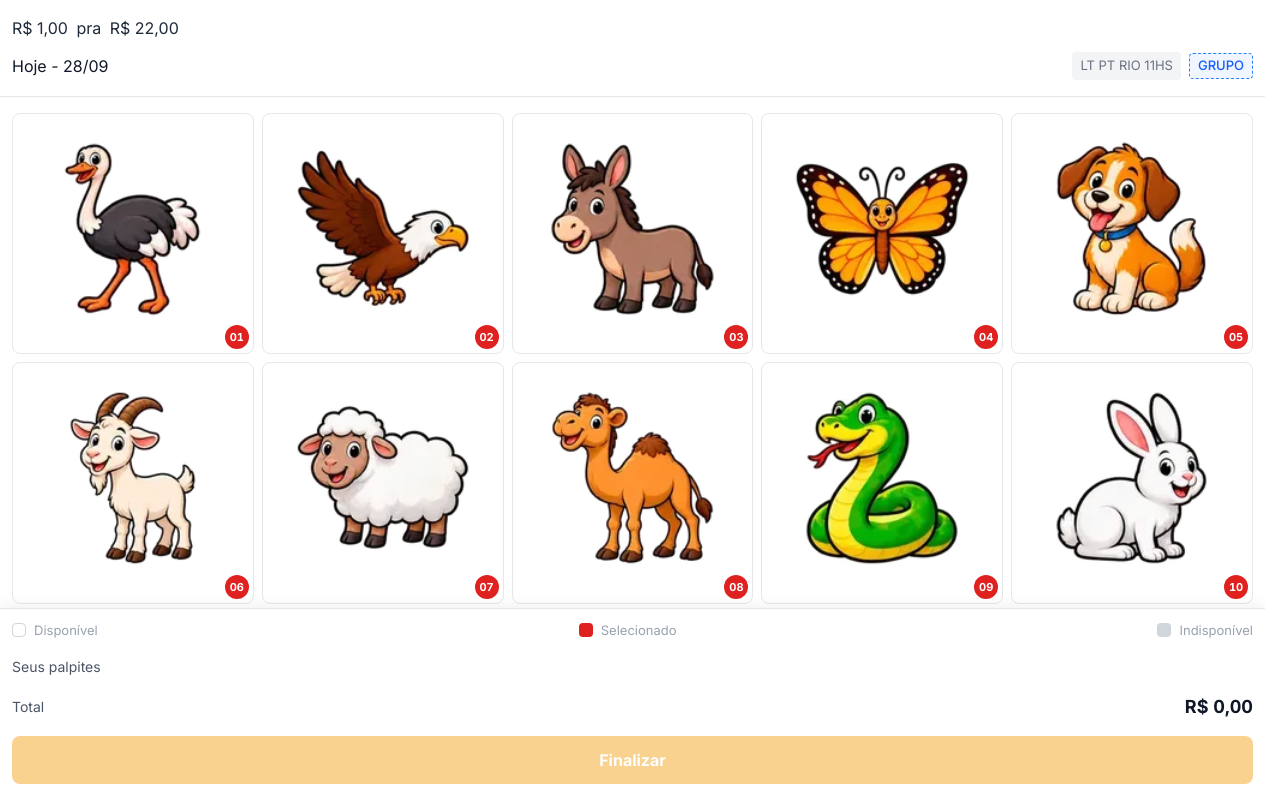
Test case: PalpitesScreen › cotação alterada: avisa e, ao fechar, volta à lista recarregada (nada é comprado)
Click the button named "01 Avestruz": point(133, 233) top-left (12, 112), bottom-right (254, 354)
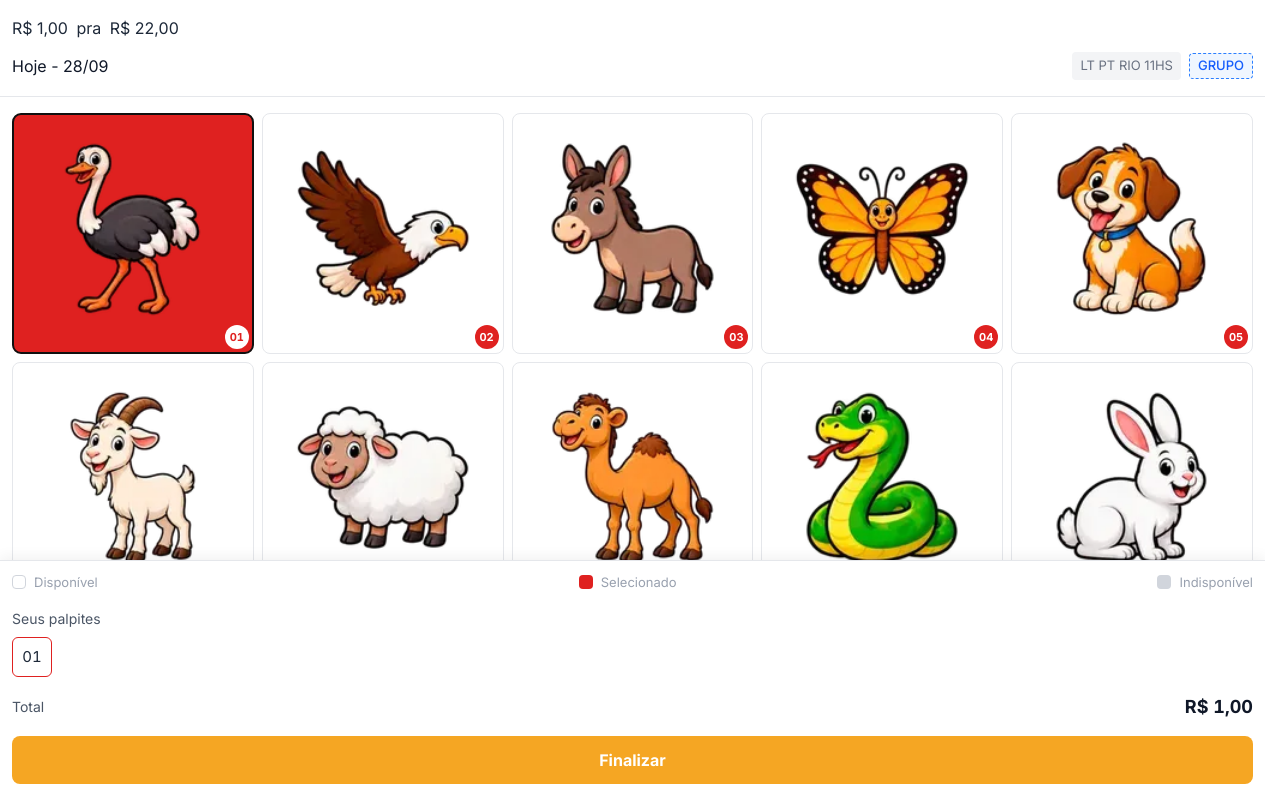
Click the button "Finalizar": point(632, 760) top-left (12, 736), bottom-right (1253, 784)
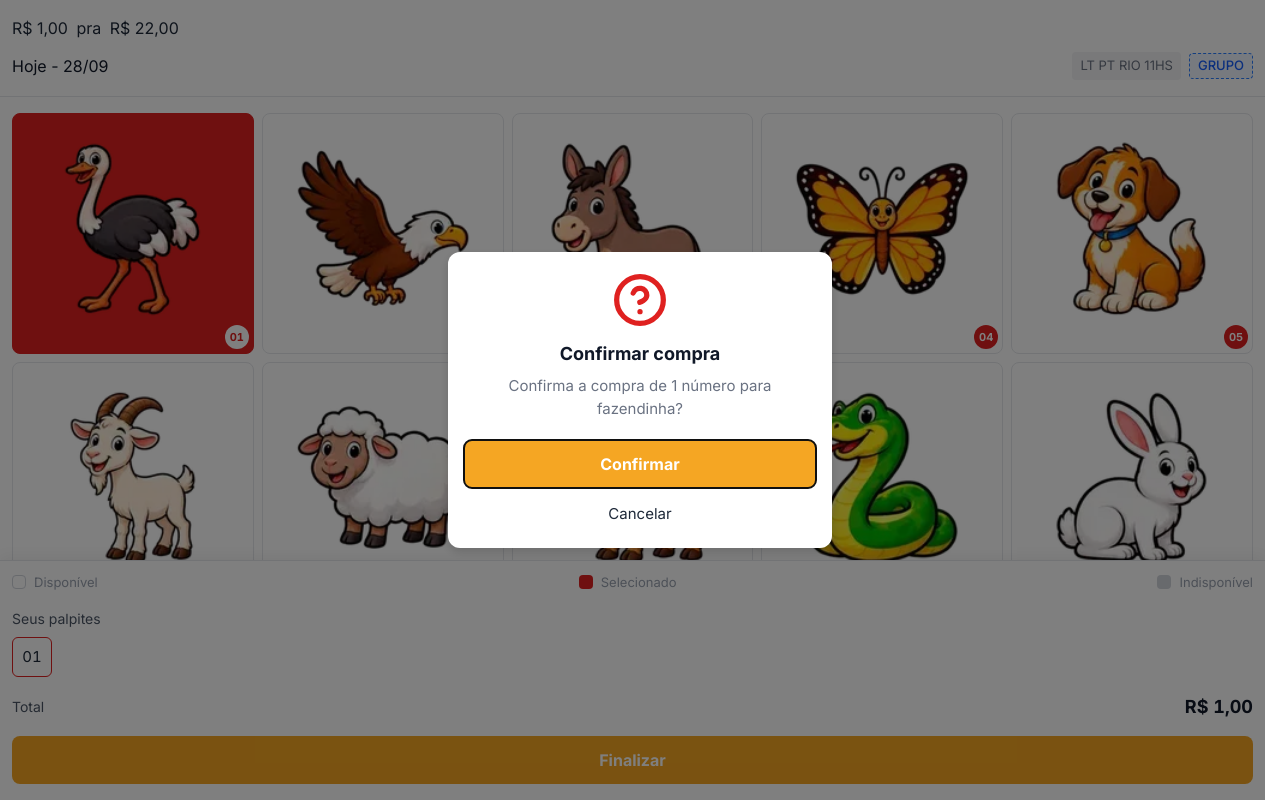
Click the button "Confirmar": point(640, 464) top-left (464, 440), bottom-right (816, 488)
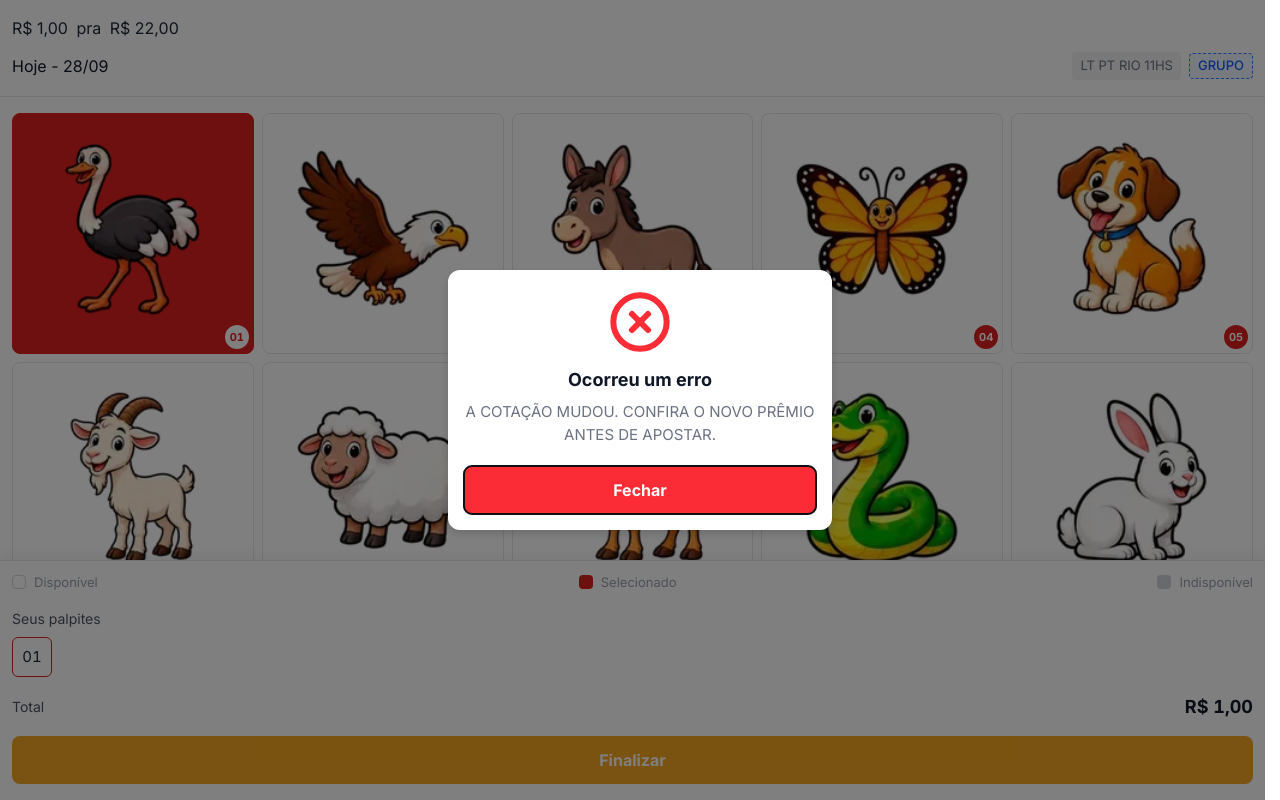
Click the button "Fechar": point(640, 490) top-left (464, 466), bottom-right (816, 514)
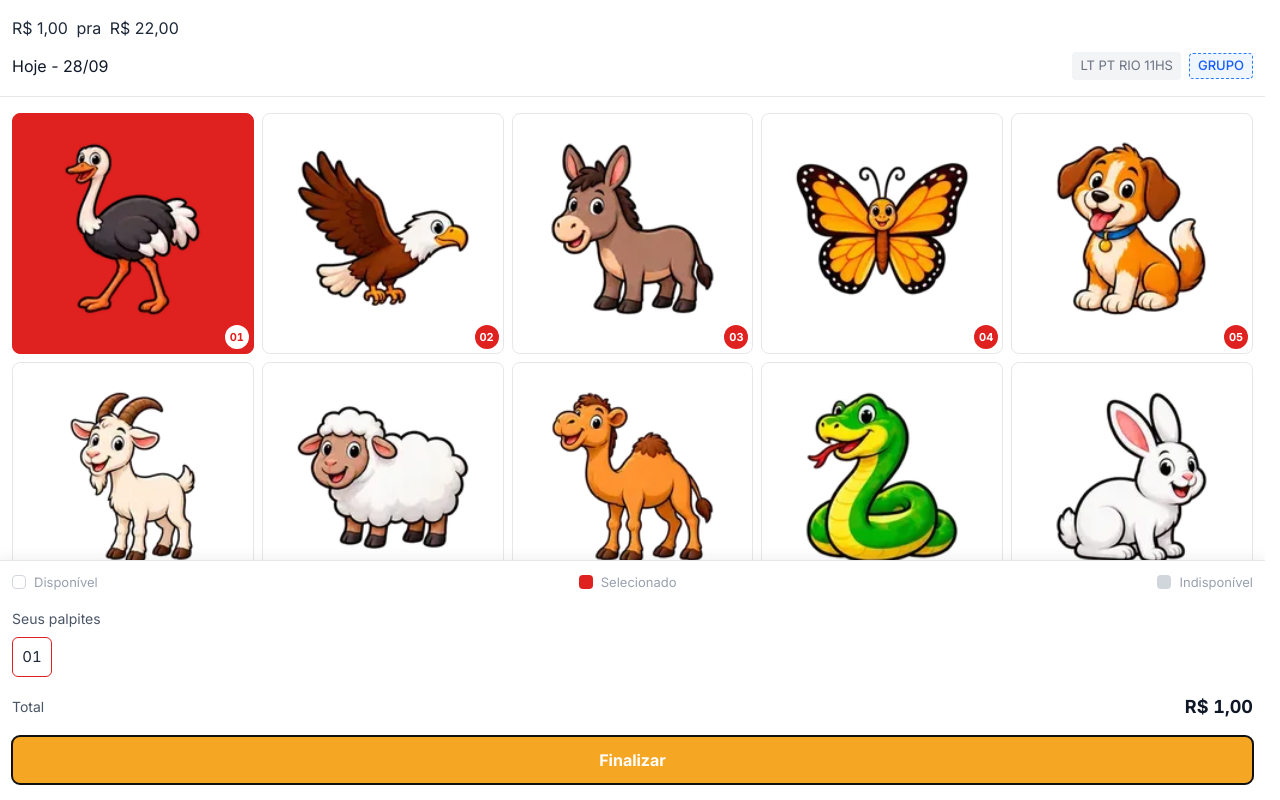
Now the dialog is gone
